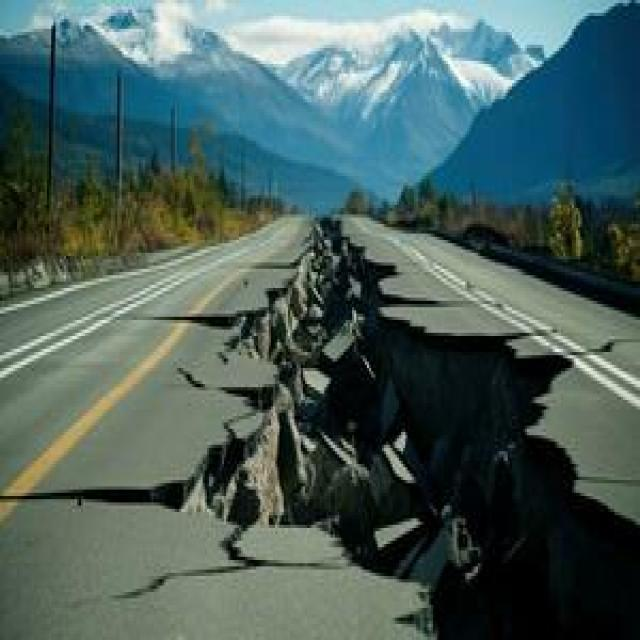road collapse: (115, 115, 640, 640)
